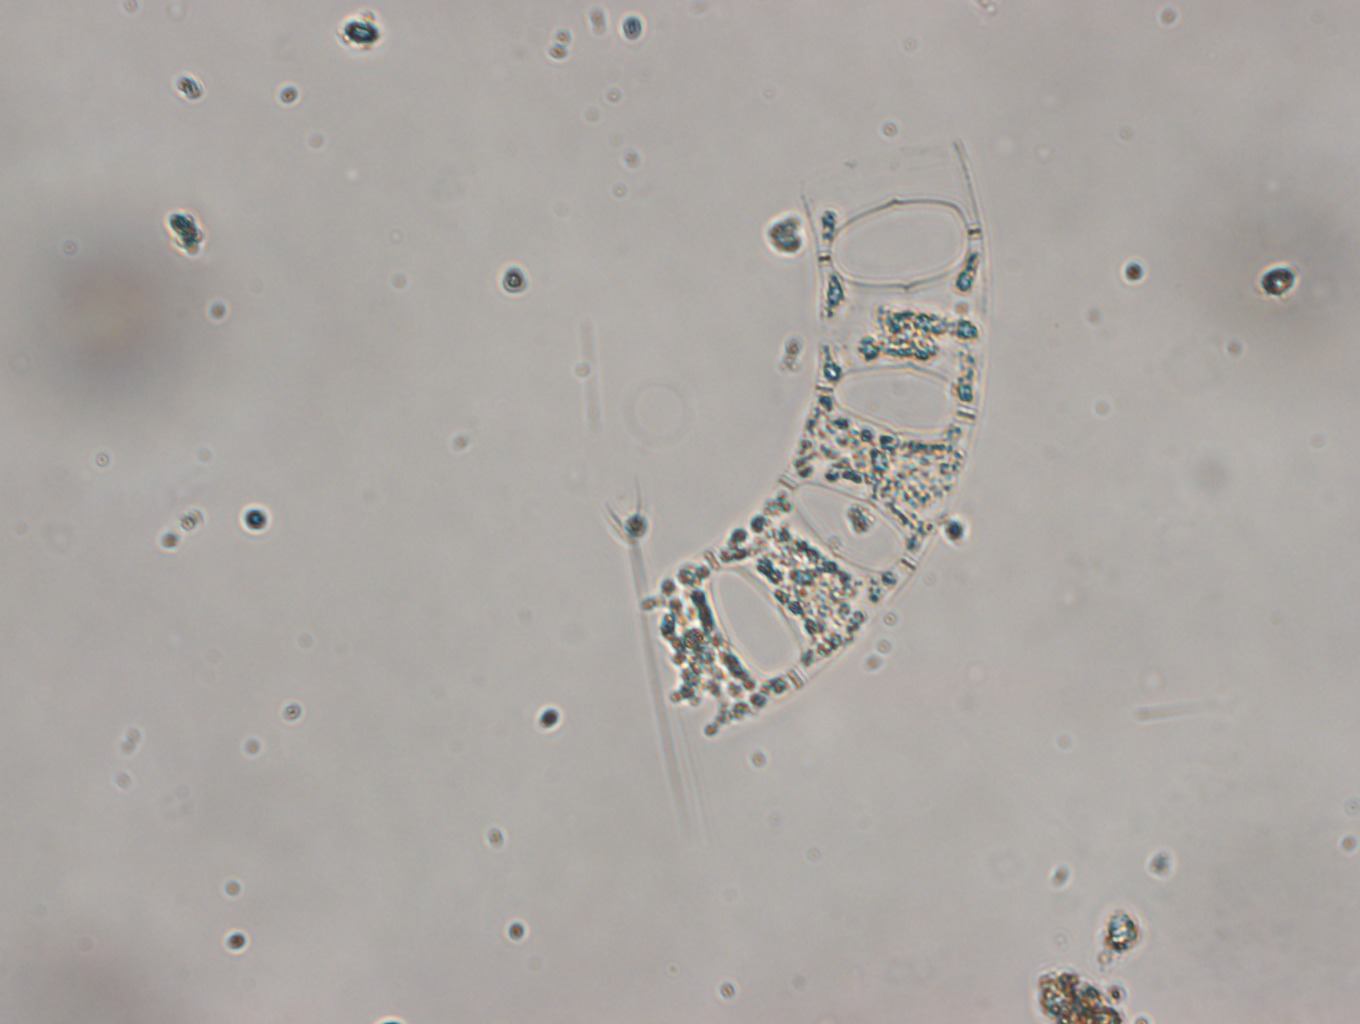eucampia: (640, 140, 986, 737)
